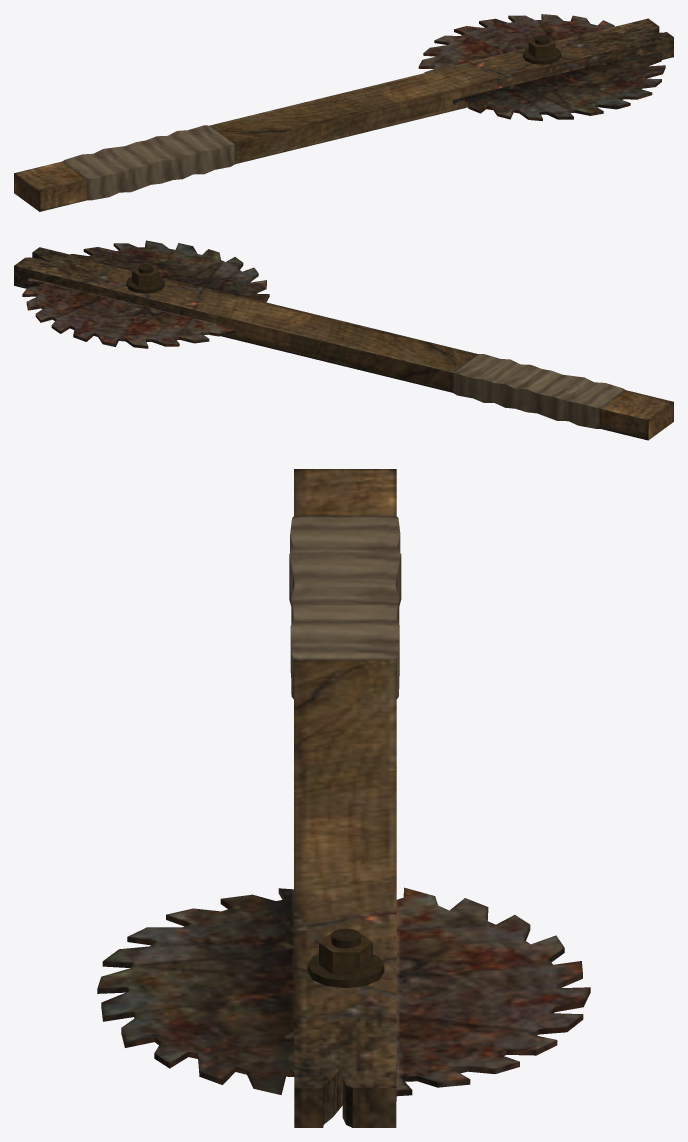
File: makeshift_melee_mx_1.obj
3 renders of one model, top to bottom at view 1: azimuth 30°, elevation 25°; view 2: azimuth 150°, elevation 25°; view 3: azimuth 270°, elevation 25°, orthographic. The views are drawn at different scales.
Parts seen in each view (by area): view 1: makeshift_melee_mx_1; view 2: makeshift_melee_mx_1; view 3: makeshift_melee_mx_1.
Part boxes in pixels (<box>): makeshift_melee_mx_1: <box>14,14,673,211</box>; makeshift_melee_mx_1: <box>14,240,673,440</box>; makeshift_melee_mx_1: <box>97,469,590,1127</box>.
Bounding box in the file's own units: 1 × 0.0804 × 0.3367.
